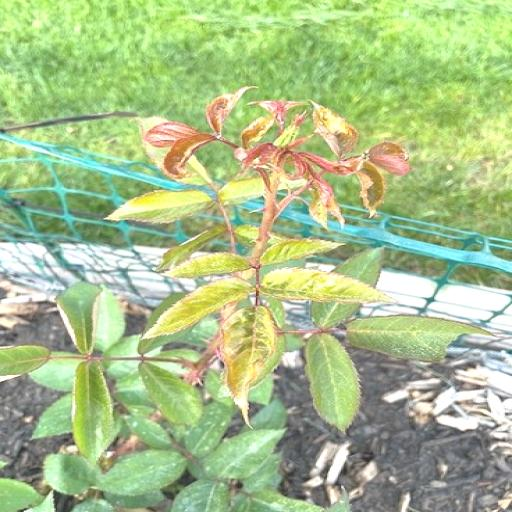thrip: (0, 86, 484, 511)
